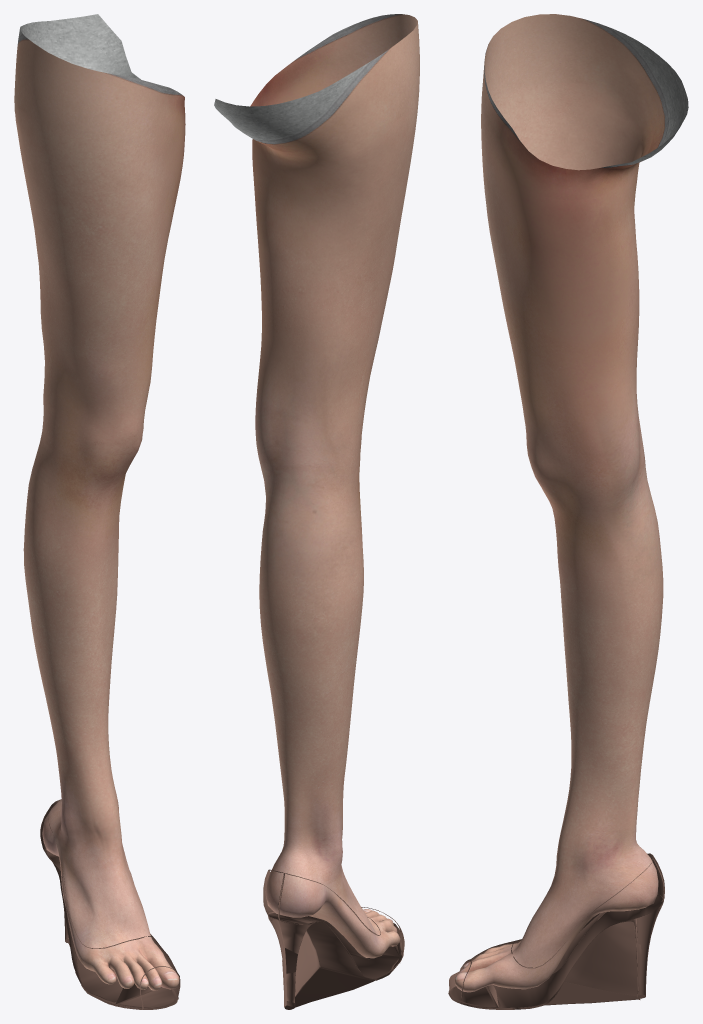
Rendered from PiernaDerecha.obj.
3 renders of one model, left to right at view 1: azimuth 30°, elevation 25°; view 2: azimuth 150°, elevation 25°; view 3: azimuth 270°, elevation 25°, orthographic.
Parts seen in each view (by area): view 1: PiernaDerecha_body.002; view 2: PiernaDerecha_body.002; view 3: PiernaDerecha_body.002.
Part boxes in pixels (x1,y1,x2,y2): PiernaDerecha_body.002: [14, 14, 185, 1009]; PiernaDerecha_body.002: [214, 14, 419, 1009]; PiernaDerecha_body.002: [448, 14, 688, 1009].
Size of the model in its own units: 0.1693 by 1.05 by 0.2408.
